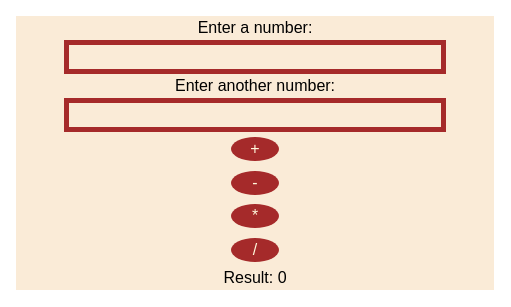
Scenario: Calculator Component › Adding two numbers displays the correct sum
This screenshot has width=511, height=307.
Type "2" into the field labelled "Enter a number:". click: (255, 57)
box: [64, 40, 446, 74]
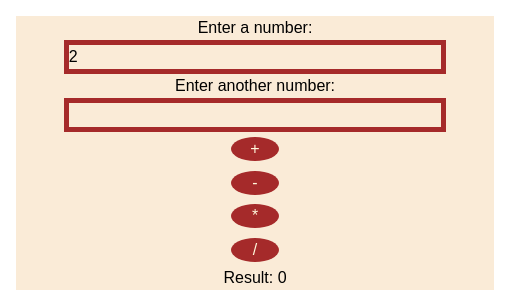
Type "3" into the field labelled "Enter another number:". click: (255, 115)
box: [64, 98, 446, 132]
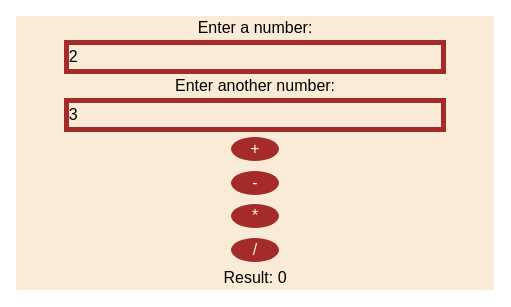
Click the button "+". click: (255, 149)
box: [231, 137, 279, 161]
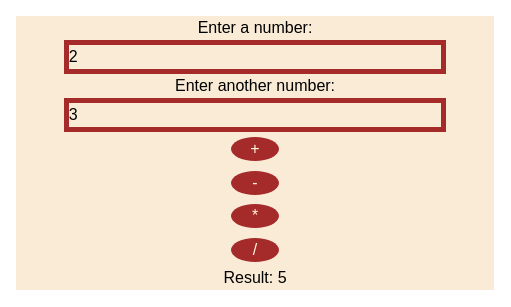
Now the text "Result: 5" is shown, box [223, 266, 287, 290]
